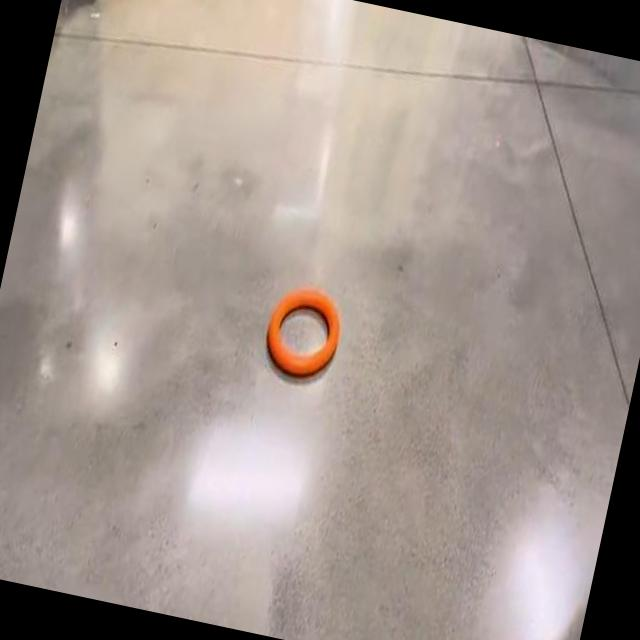note: (267, 291, 340, 376)
